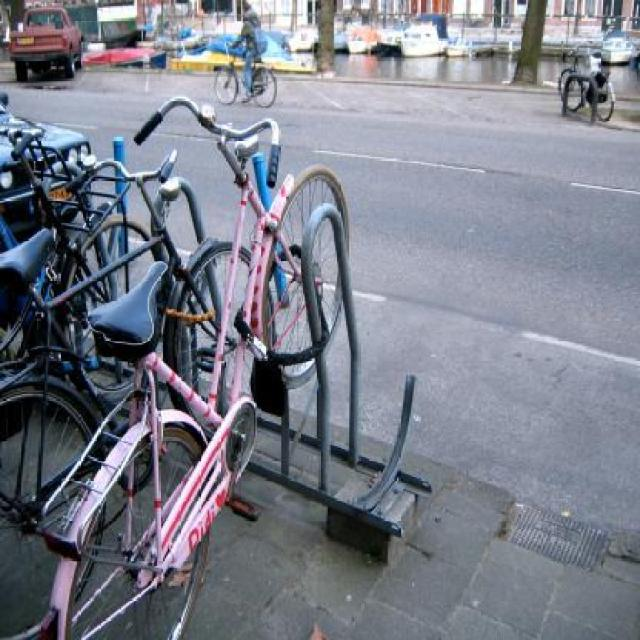Person: (226, 2, 268, 104)
